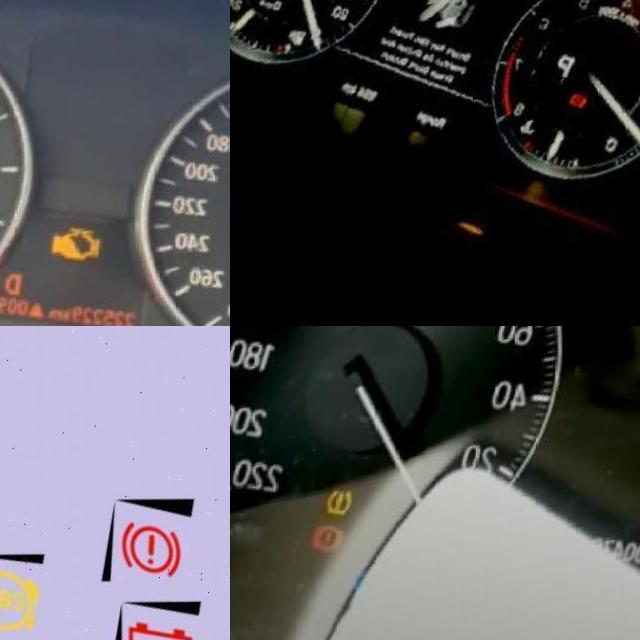Engine cooling system: (522, 123, 550, 154)
Low fuel level: (292, 31, 317, 60)
